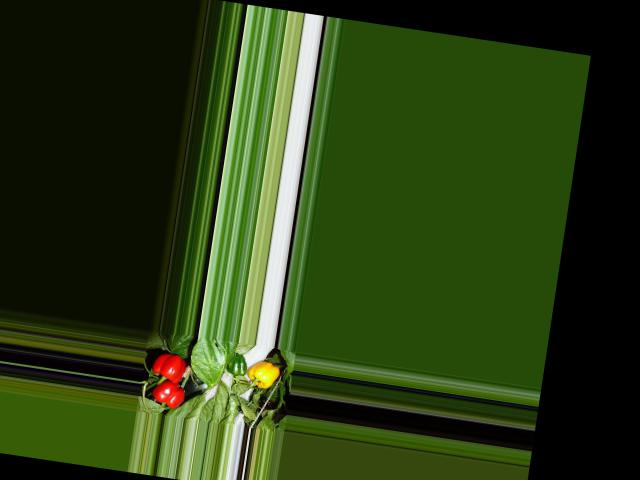bell_pepper: (244, 356, 284, 392)
